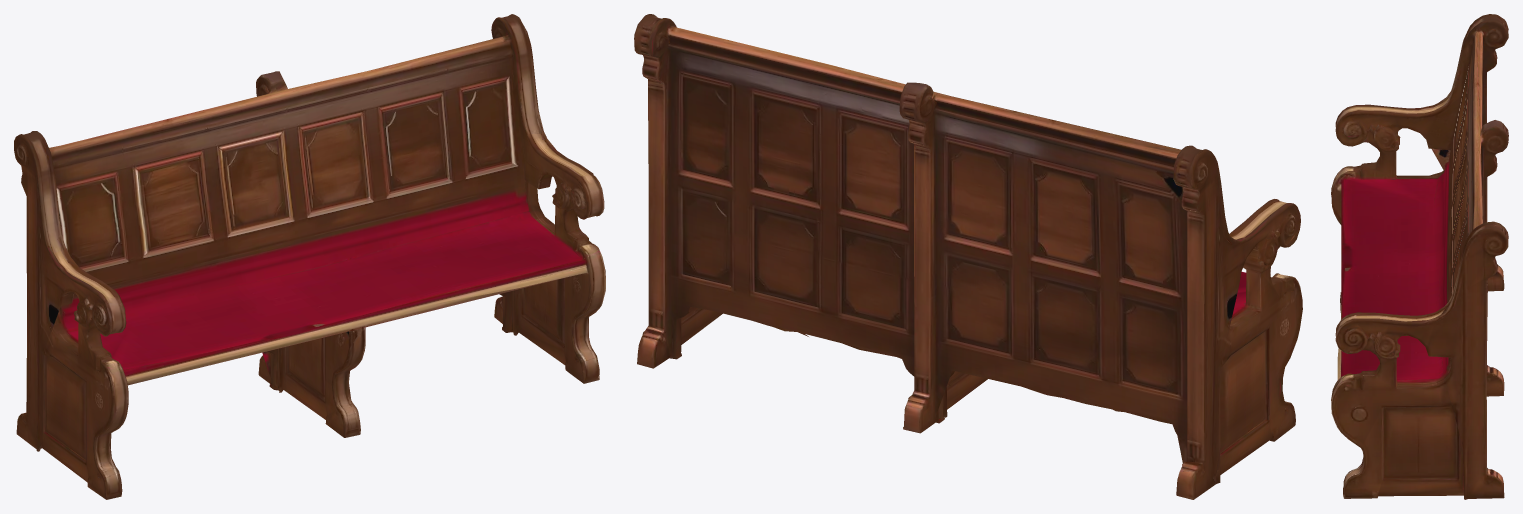
The model's file is church.glb.
3 views of the same model, side by side, from view 1: azimuth 30°, elevation 25°; view 2: azimuth 150°, elevation 25°; view 3: azimuth 270°, elevation 25° (orthographic). The views are drawn at different scales.
Parts seen in each view (by area): view 1: Mesh1.0; view 2: Mesh1.0; view 3: Mesh1.0.
Boxes of the visible parts, x1,y1,x2,y2 form: Mesh1.0: [14, 14, 605, 499]; Mesh1.0: [634, 14, 1302, 499]; Mesh1.0: [1331, 14, 1508, 499].
Size of the model in its own units: 1.9 by 1.11 by 0.6603.
1 material, 1 textured.
